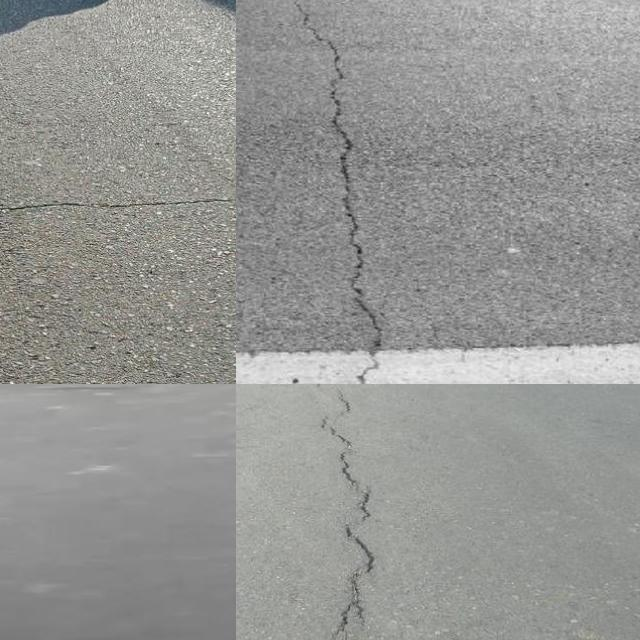Melintang: (0, 184, 236, 224)
Memanjang: (271, 0, 396, 384), (316, 385, 391, 640)
